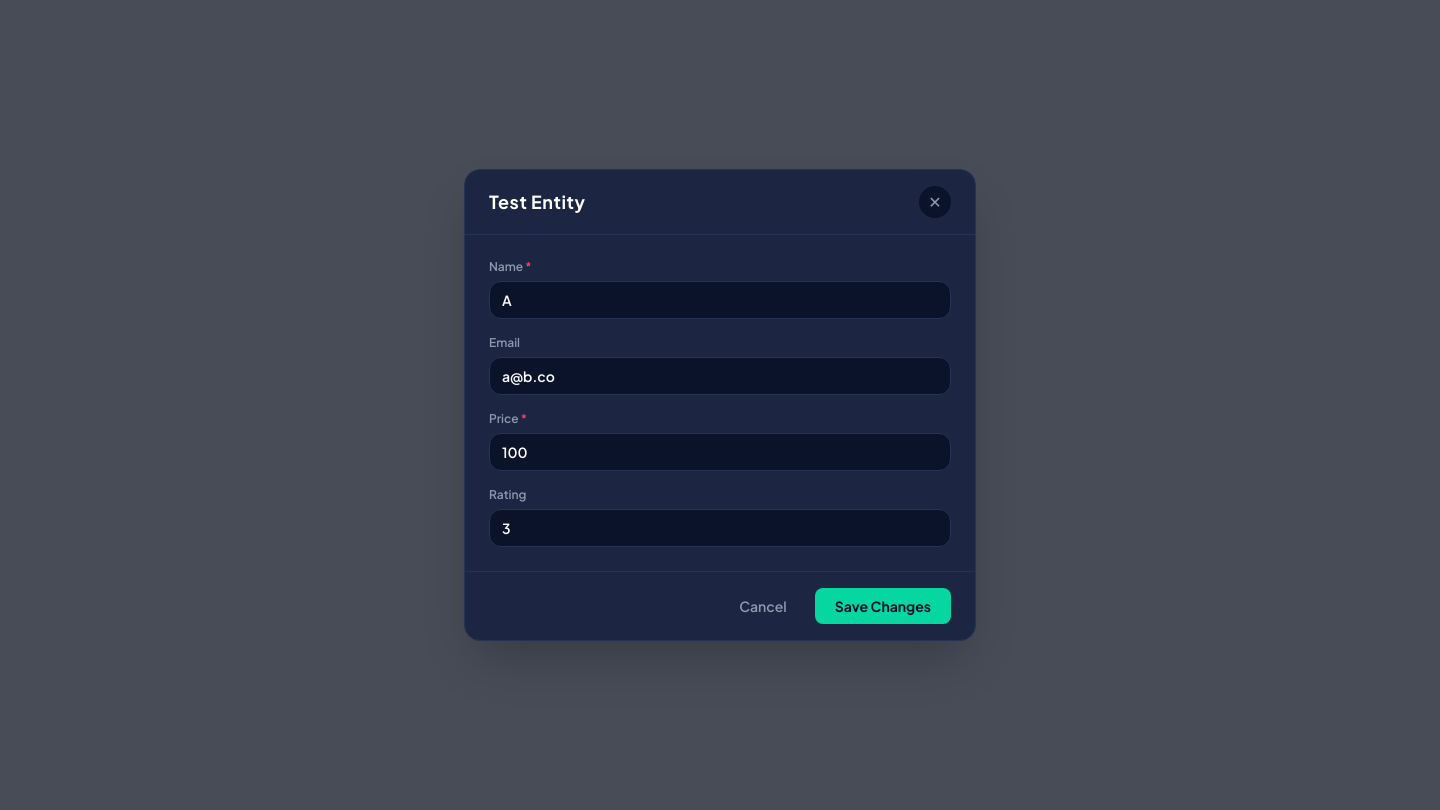
Scenario: CrudModal input validation › rejects an out-of-range rating
Step 1. Replace the text in the number field showing "3" with "6" → {"x": 720, "y": 528}, box [489, 509, 951, 547]
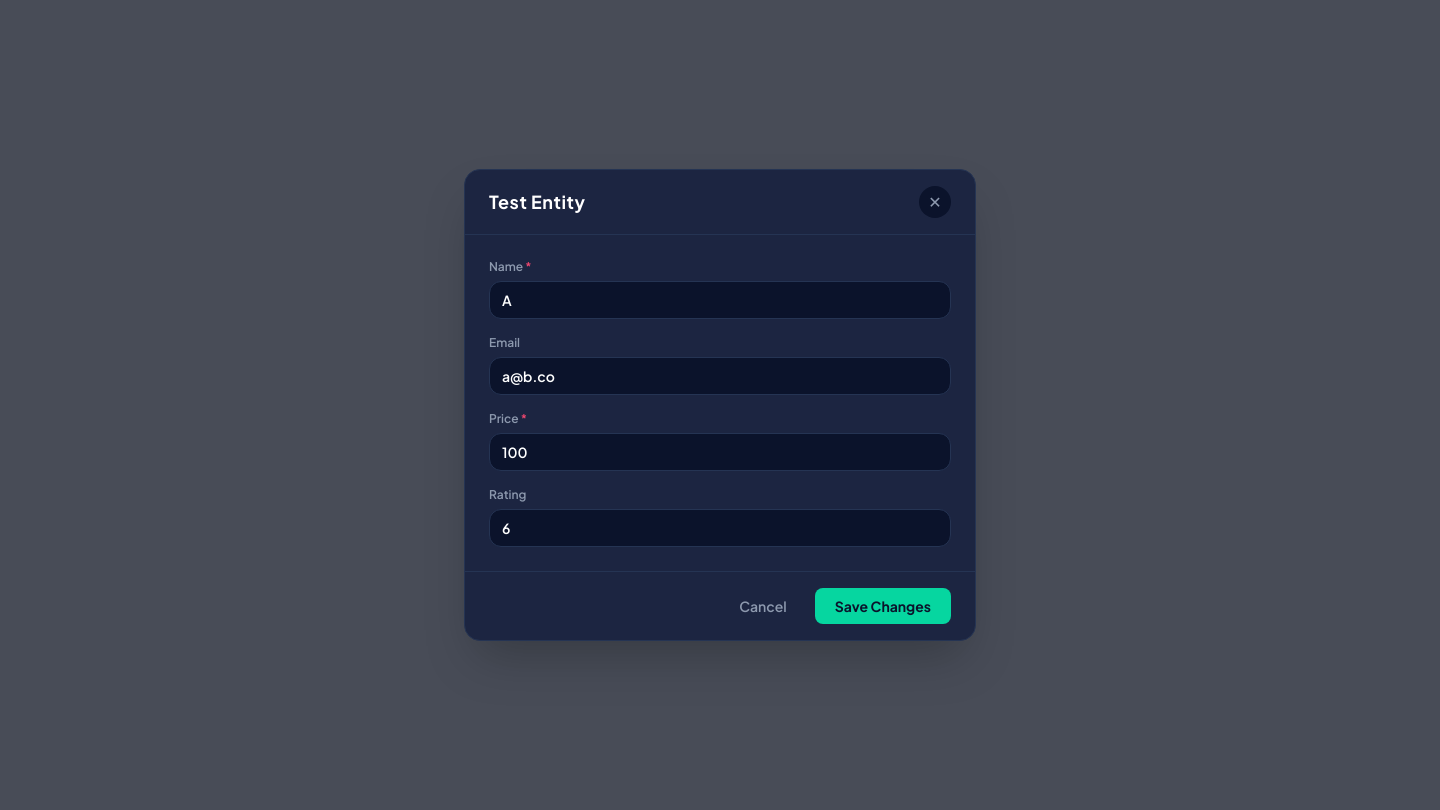
Step 2. Click the button "Save Changes" → {"x": 883, "y": 606}, box [815, 588, 951, 624]
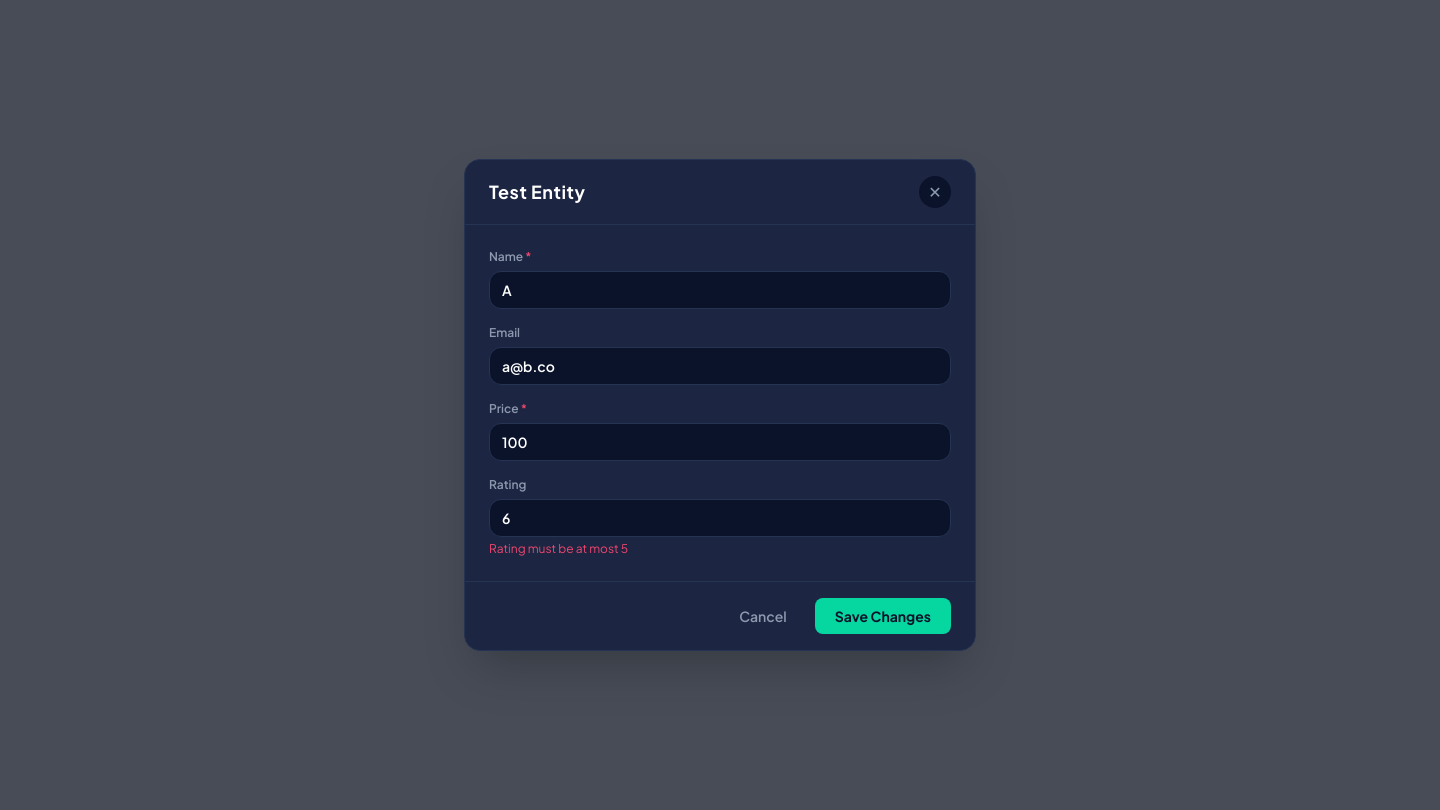
Expected: the text "Rating must be at most 5" is shown, [489, 541, 628, 556]
